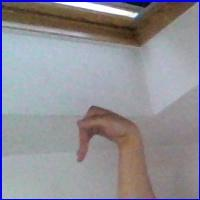del: (71, 99, 140, 168)
